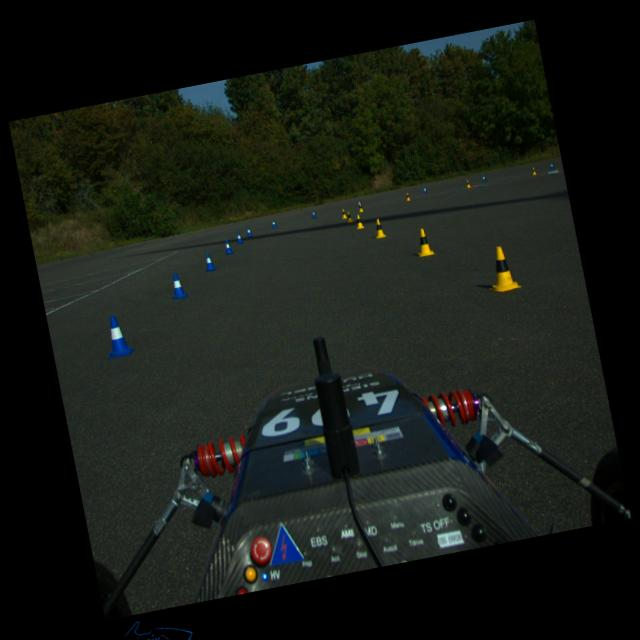blue_cone: (100, 312, 136, 358), (168, 272, 188, 299), (202, 252, 216, 272), (223, 239, 234, 255), (235, 232, 244, 244), (246, 226, 253, 238), (270, 219, 277, 228), (310, 210, 316, 218), (422, 186, 428, 193), (549, 162, 555, 169), (357, 200, 362, 207), (482, 174, 486, 182)
yellow_cone: (482, 244, 522, 294), (412, 227, 436, 258), (372, 218, 387, 239), (354, 213, 365, 230), (346, 210, 354, 222), (340, 208, 347, 220), (405, 192, 411, 202), (531, 167, 537, 176), (358, 203, 364, 212), (465, 180, 471, 188)
